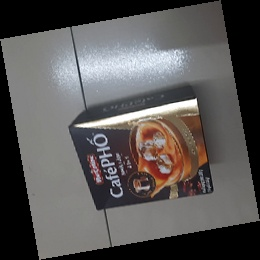CF pho: (67, 86, 214, 210)
